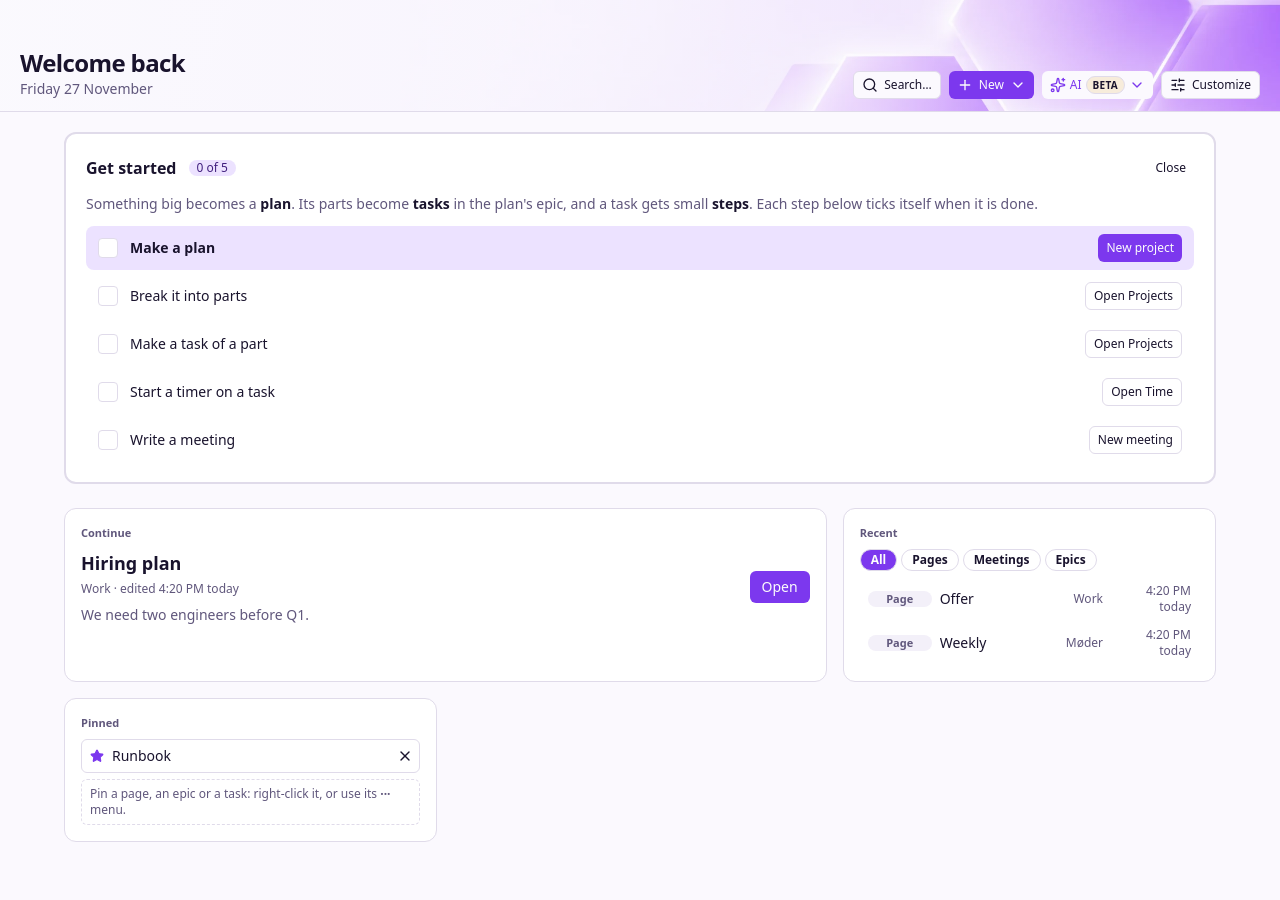
it: StartPage › New offers a page, a meeting, a task and an idea, and no quick page
Click the button "New": [991, 85] box [949,71,1034,99]
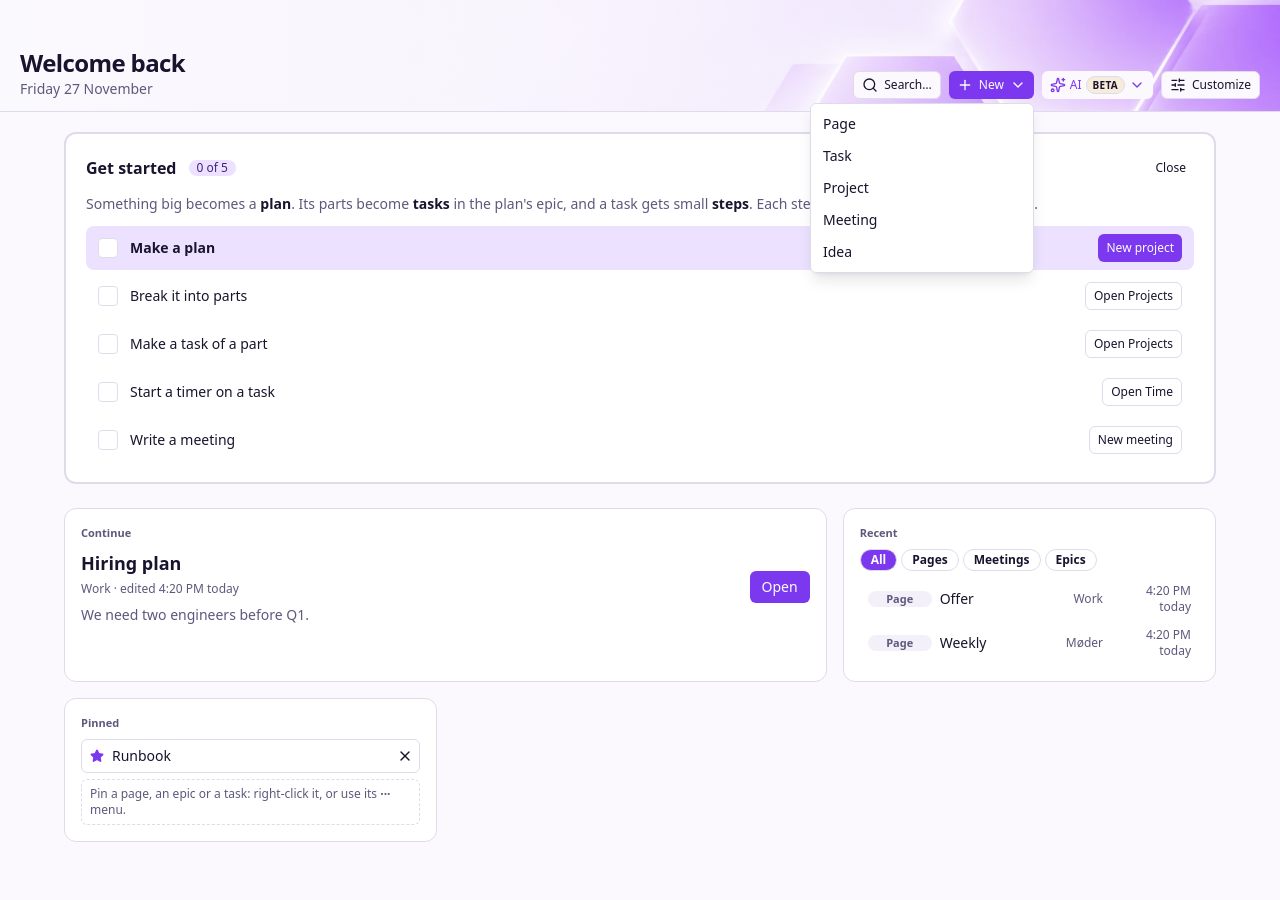
Click the menu item "Meeting": [850, 220] box [823,210,877,229]
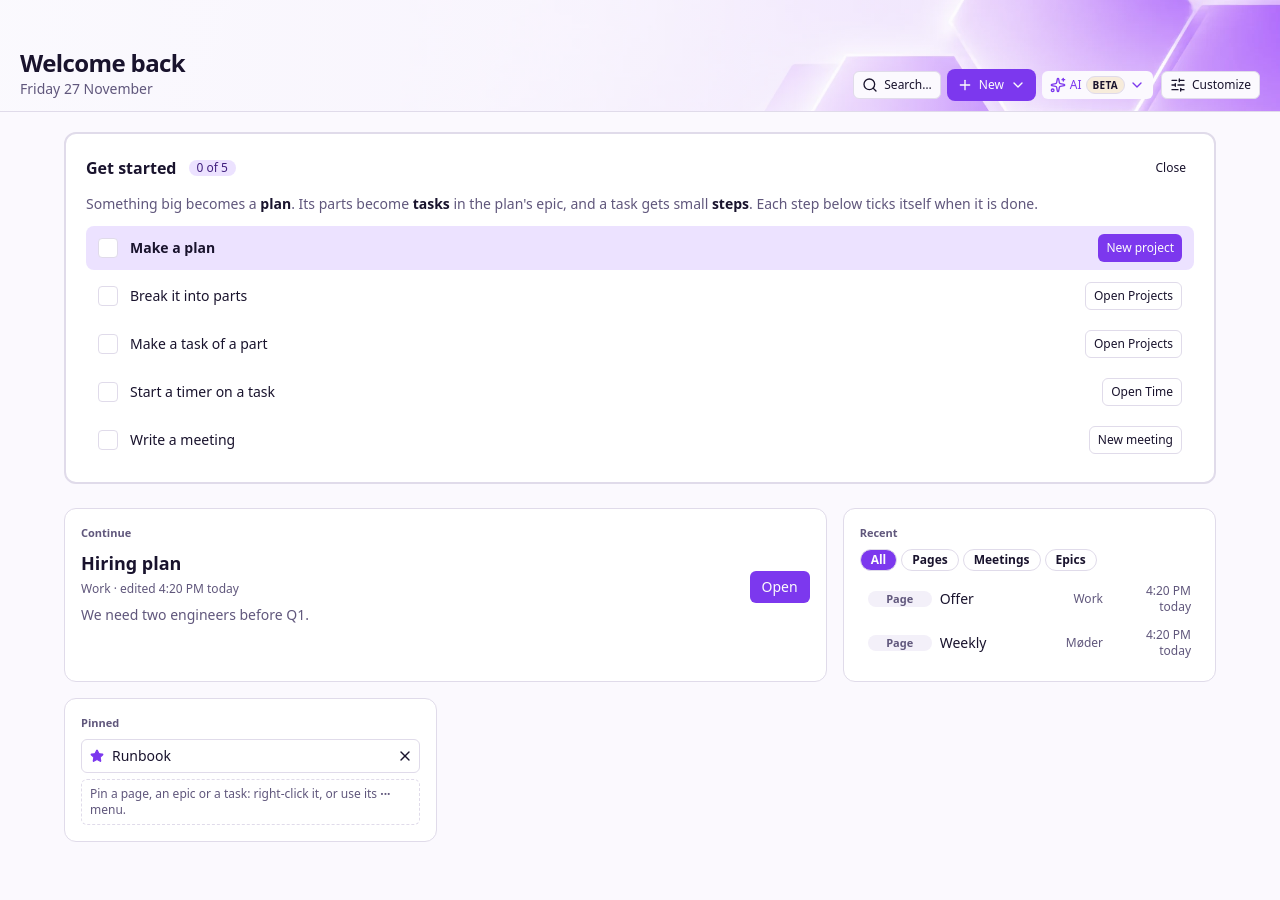
Click the button "New": [991, 85] box [949,71,1034,99]
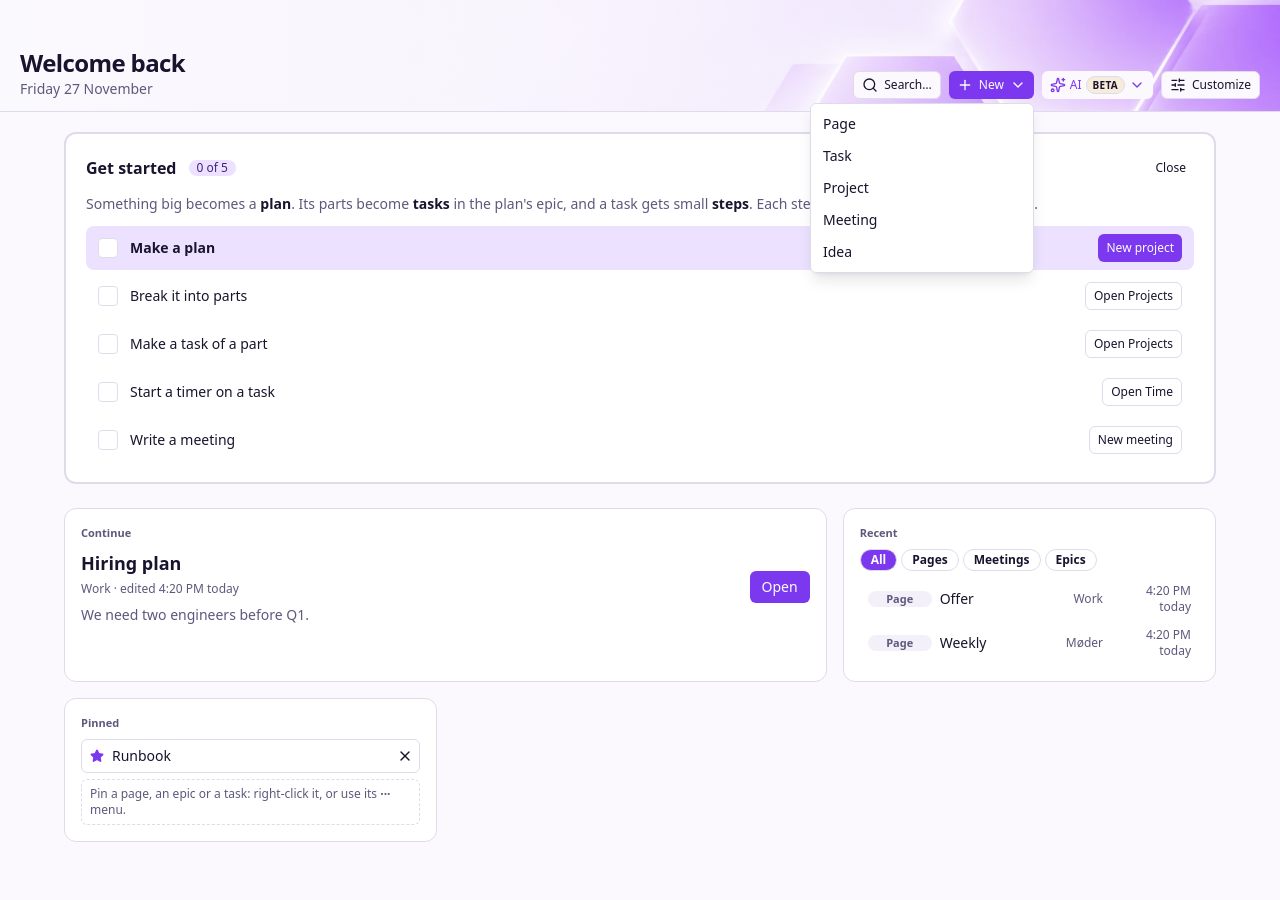
Click the menu item "Task": [837, 156] box [823,146,852,165]
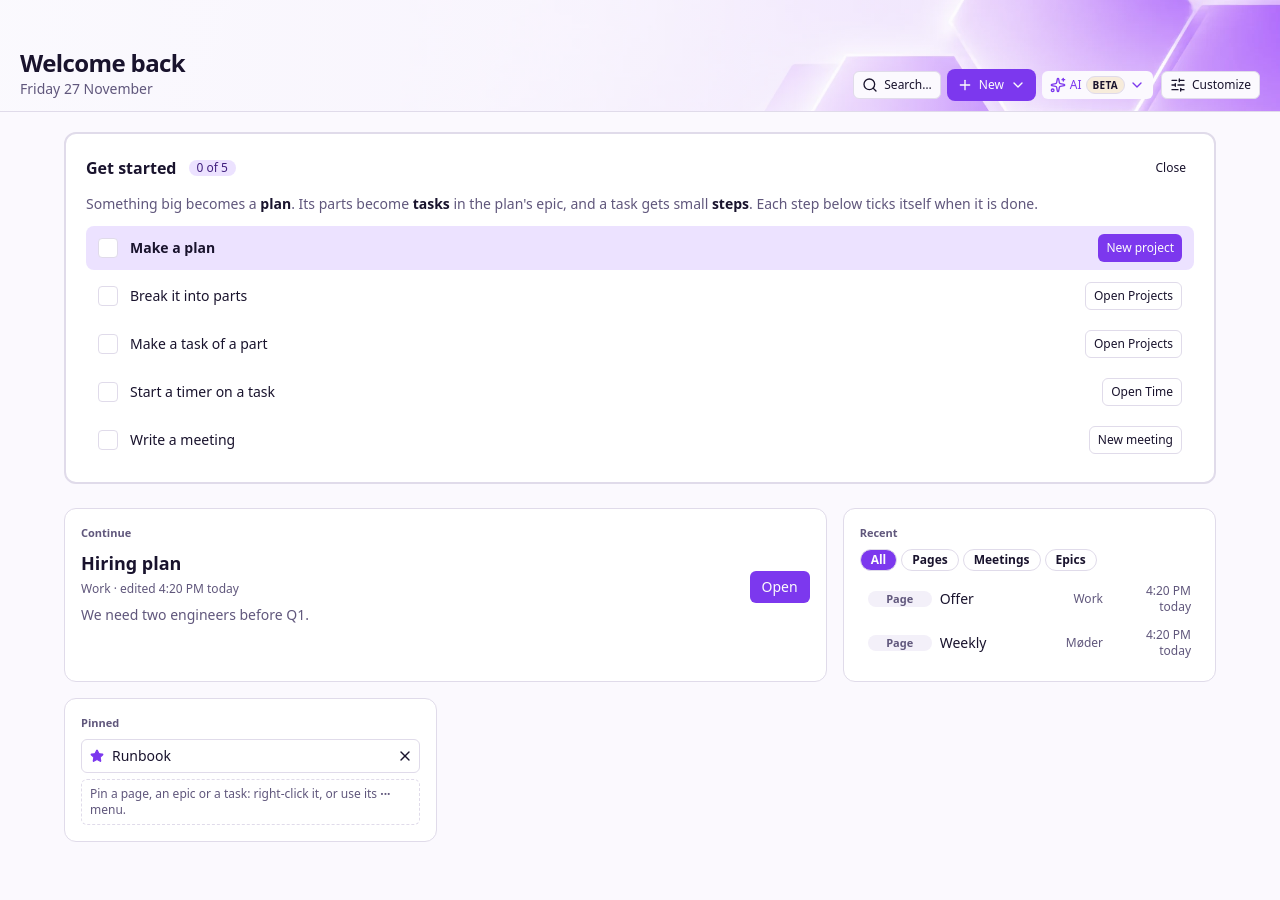
Click the button "New": [991, 85] box [949,71,1034,99]
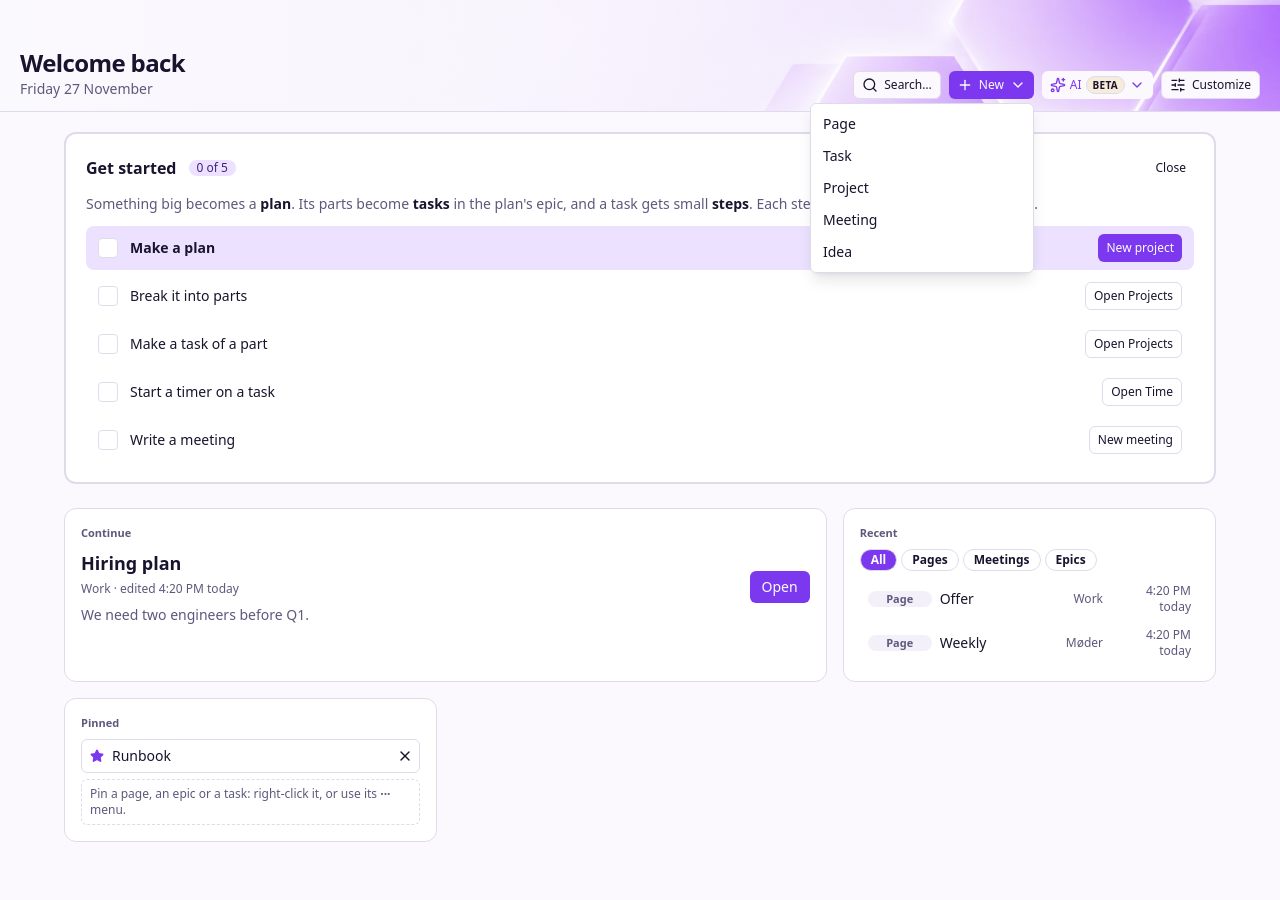
expect the menu item "Idea" is shown: met, box [823,242,852,261]
